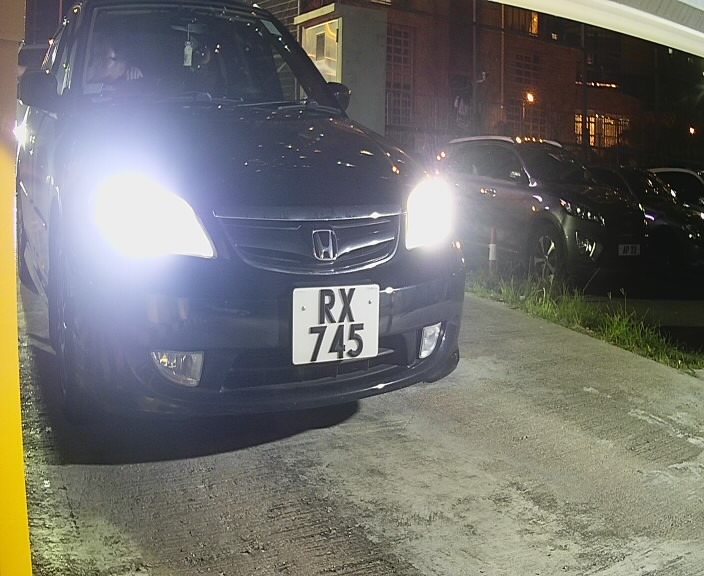License Plate: (287, 280, 392, 371)
